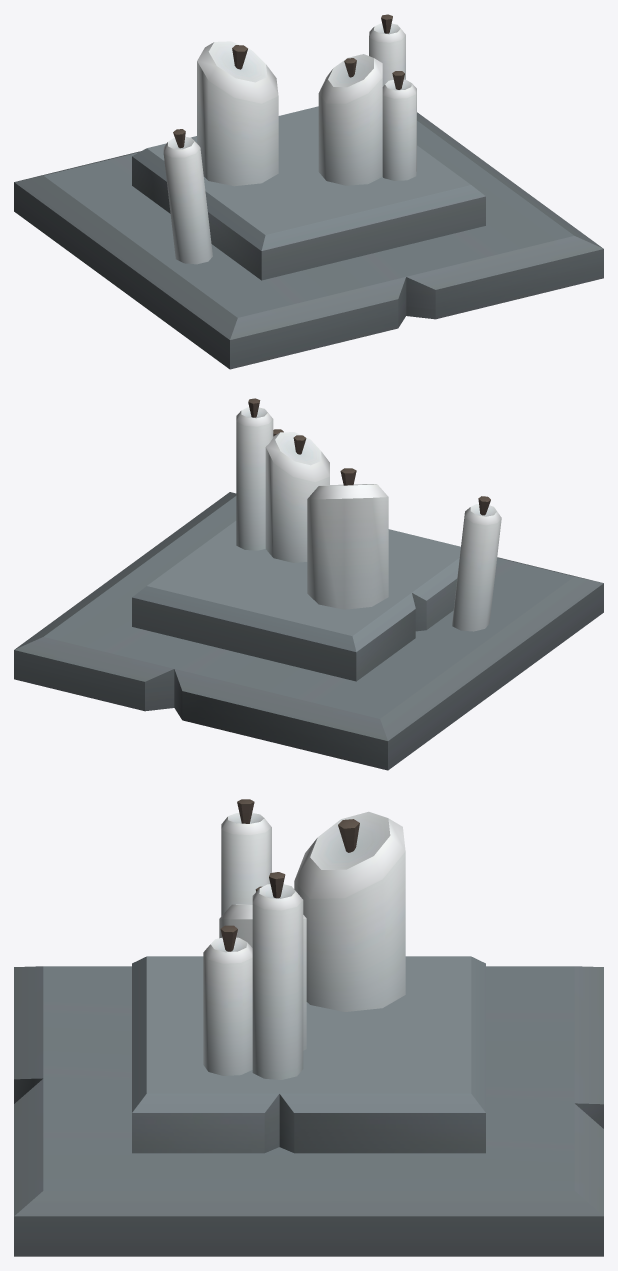
Rendered from plaque-candles.glb.
3 views of the same model, one above another, from view 1: azimuth 30°, elevation 25°; view 2: azimuth 150°, elevation 25°; view 3: azimuth 270°, elevation 25° (orthographic). The views are drawn at different scales.
Parts seen in each view (by area): view 1: plaque_candles; view 2: plaque_candles; view 3: plaque_candles.
Boxes of the visible parts, x1,y1,x2,y2 form: plaque_candles: [14, 14, 603, 369]; plaque_candles: [14, 398, 603, 770]; plaque_candles: [14, 799, 603, 1256].
Size of the model in its own units: 2 by 1.13 by 2.
Materials: 1 (1 with a texture image).
